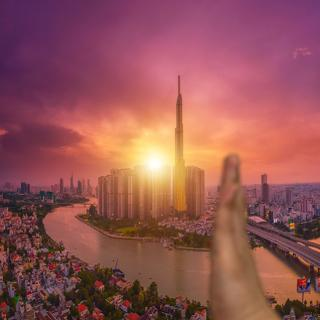RIGHT: (199, 148, 276, 320)
